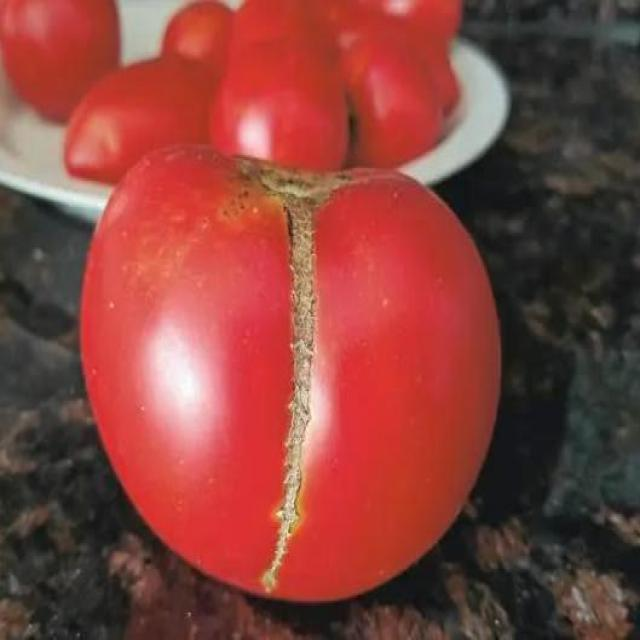Healthy: (218, 35, 348, 175), (68, 45, 218, 164), (0, 4, 122, 142), (345, 22, 440, 172), (163, 2, 240, 79)
